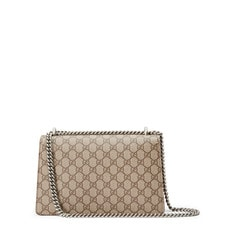Gucci: (20, 108, 185, 226), (50, 138, 153, 209)
